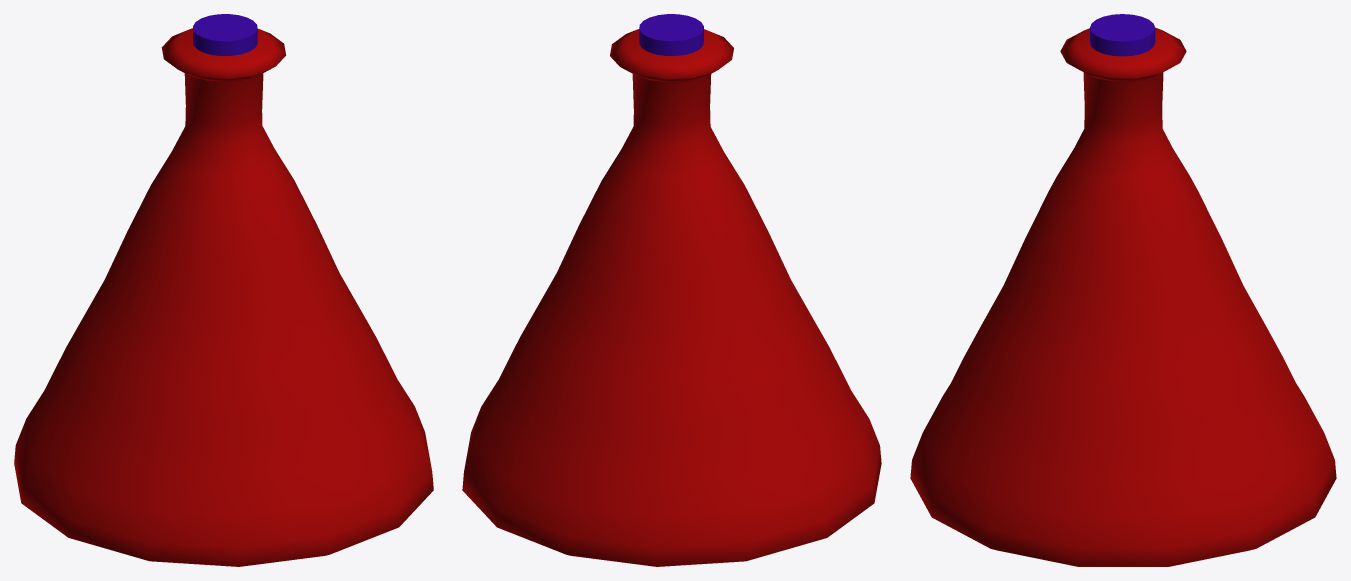
The model's file is FlaskLarge.fbx.
The picture shows the model from 3 angles, left to right: view 1: azimuth 30°, elevation 25°; view 2: azimuth 150°, elevation 25°; view 3: azimuth 270°, elevation 25°; orthographic projection.
Parts seen in each view (by area): view 1: Flask_Large; view 2: Flask_Large; view 3: Flask_Large.
Boxes of the visible parts, x1=… form: Flask_Large: x1=14, y1=14, x2=433, y2=566; Flask_Large: x1=462, y1=14, x2=881, y2=566; Flask_Large: x1=910, y1=14, x2=1336, y2=566.
Bounding box in the file's own units: 35.36 × 42.99 × 36.29.
